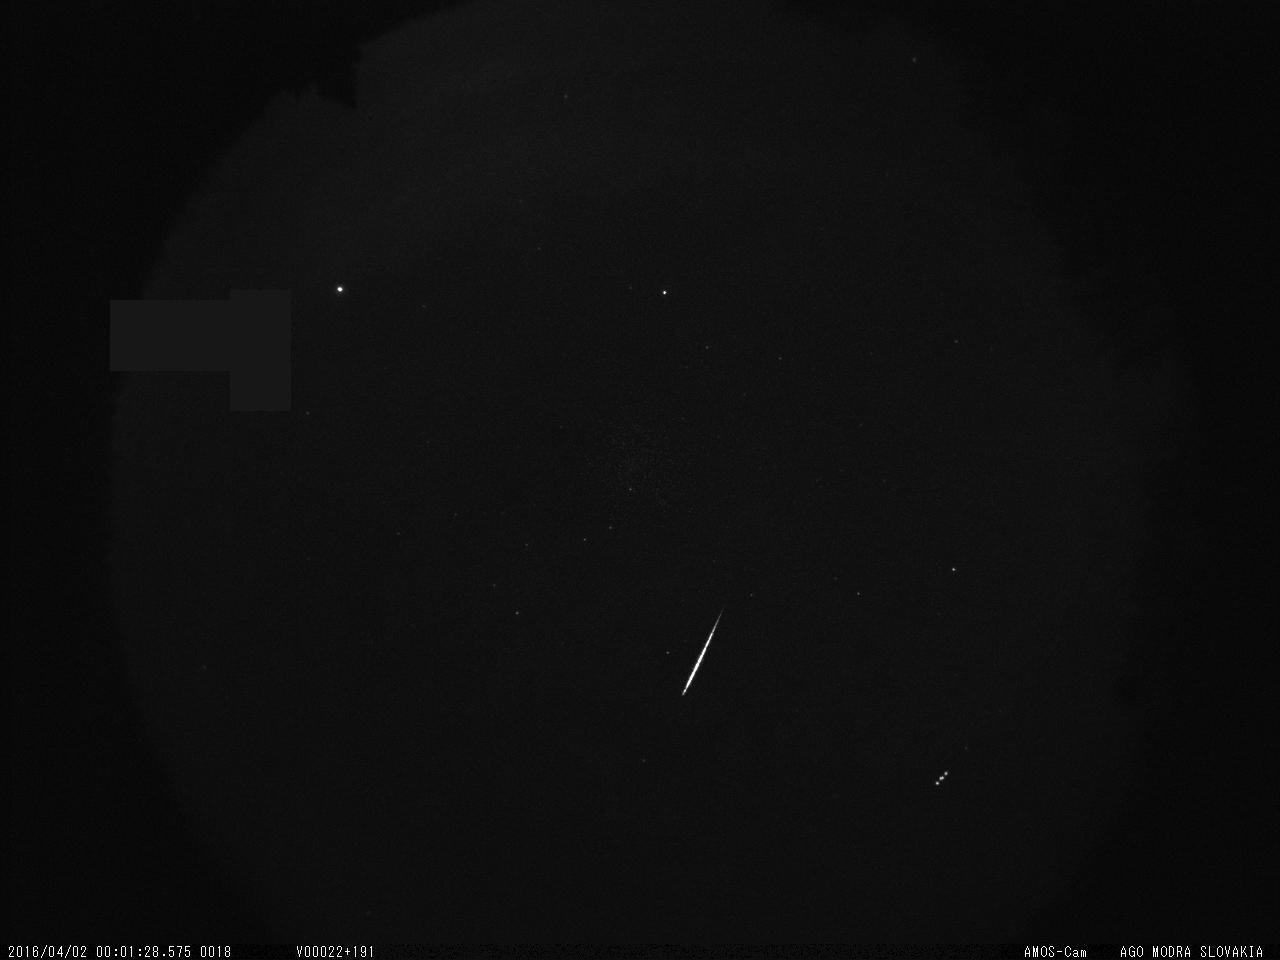meteor: (663, 596, 745, 698)
